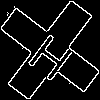H: (25, 25, 82, 84)
